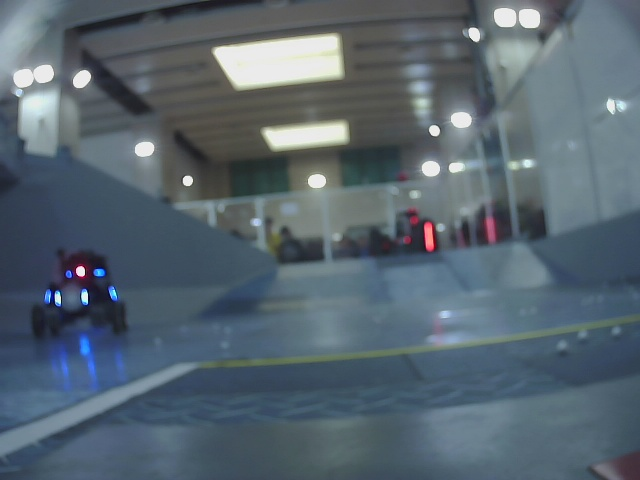lamp: (53, 290, 61, 307), (80, 290, 89, 305)
pair: (54, 290, 88, 306)
